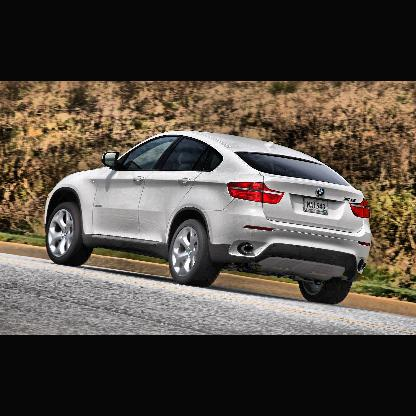BMW X6 SUV 2012: (44, 129, 373, 307)
